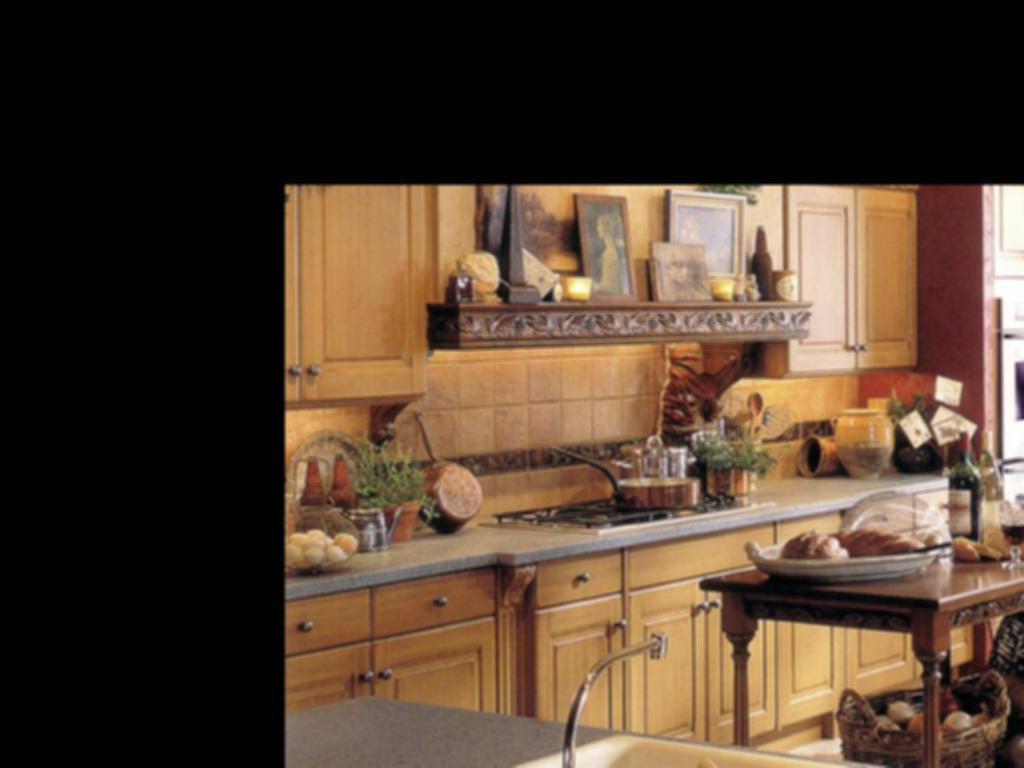Lavaplatos: (398, 633, 1024, 768)
